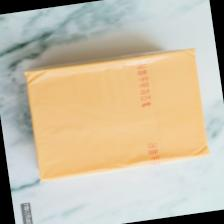cheese: (21, 45, 212, 183)
